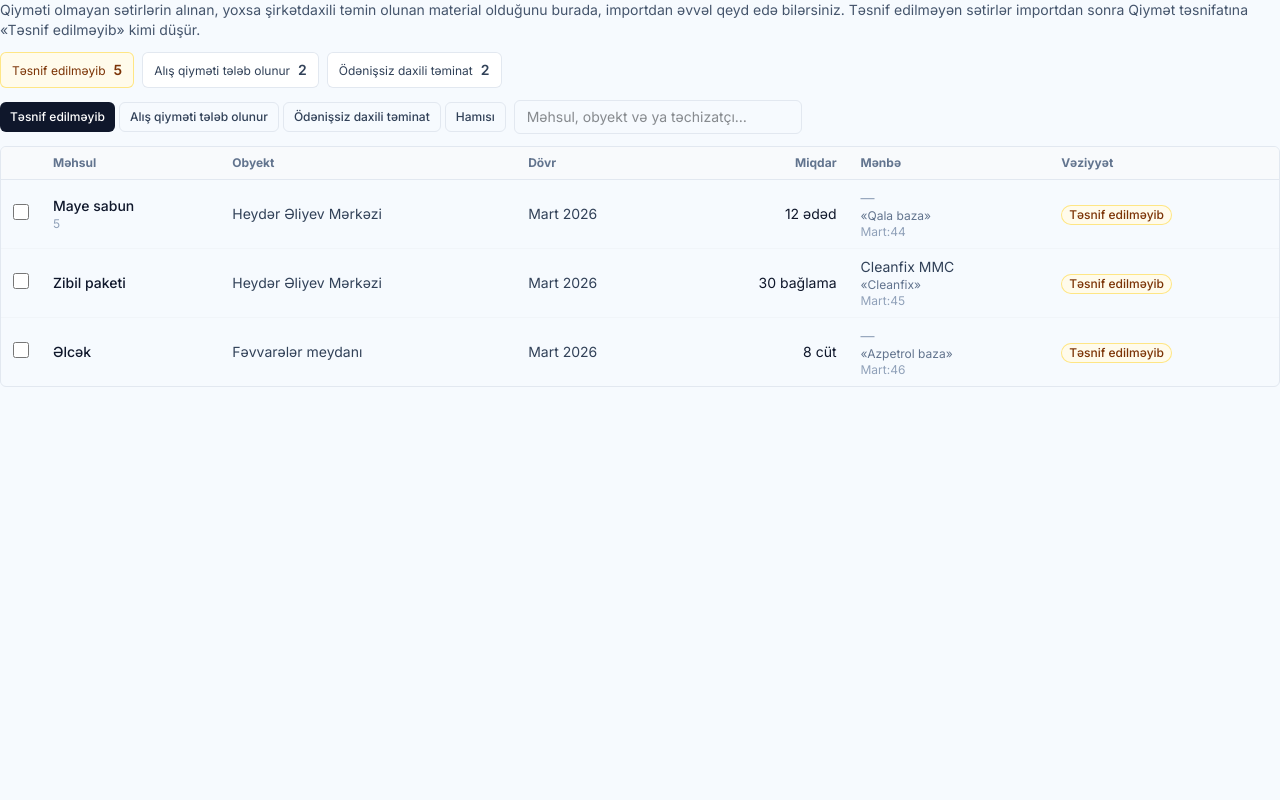
Scenario: classifying › clears a classification with «Təsnifatı geri al»
The width and height of the screenshot is (1280, 800).
Expected: the text "Maye sabun" is shown, top-left (53, 197), bottom-right (134, 214)
Click the checkbox named "Zibil paketi · Heydər Əliyev Mərkəzi · Mart 2026" at (21, 280), box top-left (13, 272), bottom-right (29, 288)
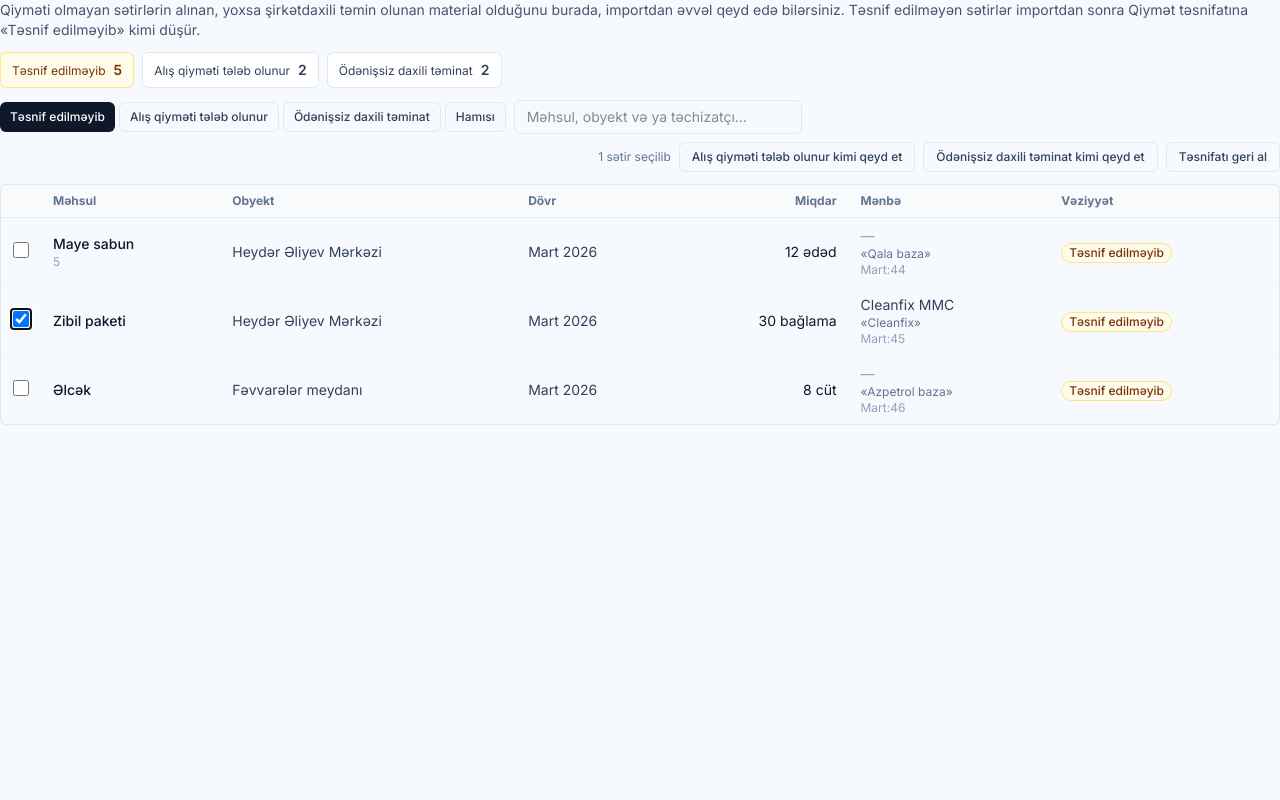
Click the checkbox named "Maye sabun · Heydər Əliyev Mərkəzi · Mart 2026" at (21, 250), box top-left (13, 242), bottom-right (29, 258)
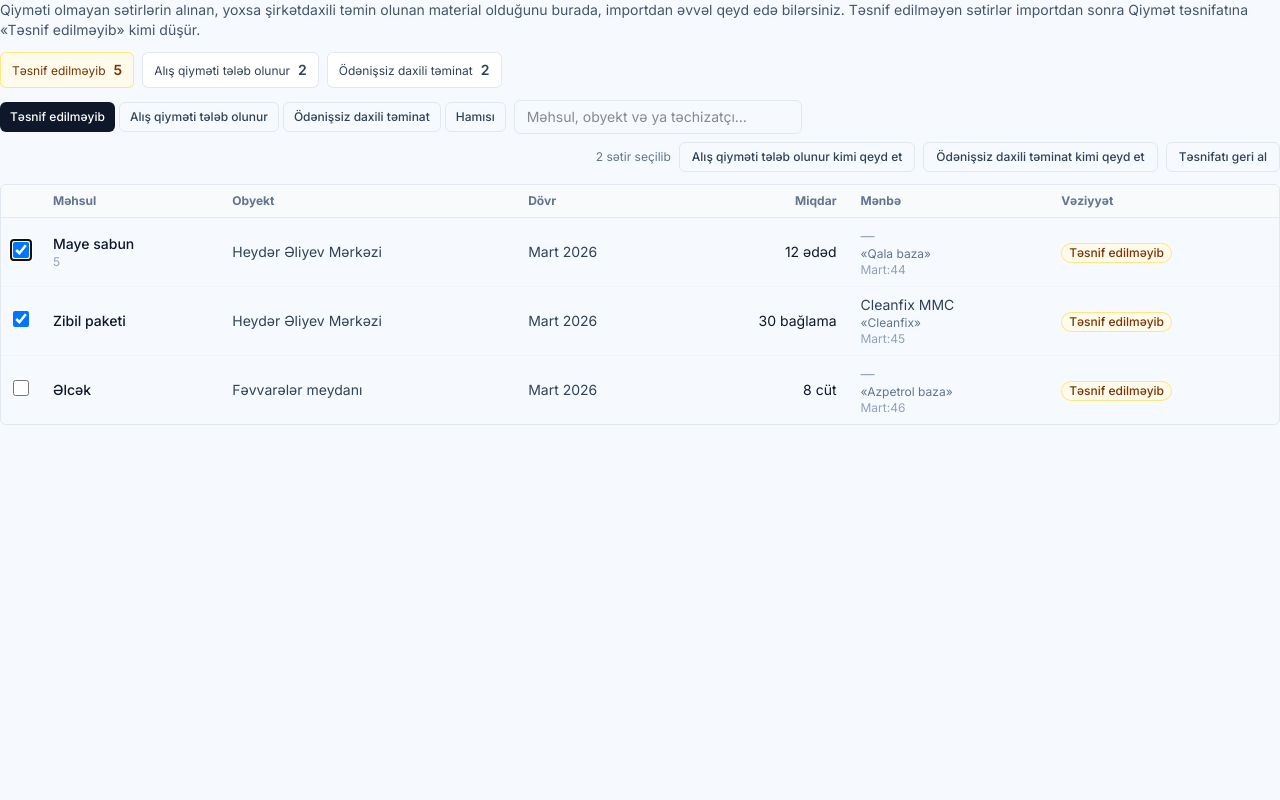
Click the button "Təsnifatı geri al" at (1223, 157), box top-left (1166, 142), bottom-right (1279, 172)
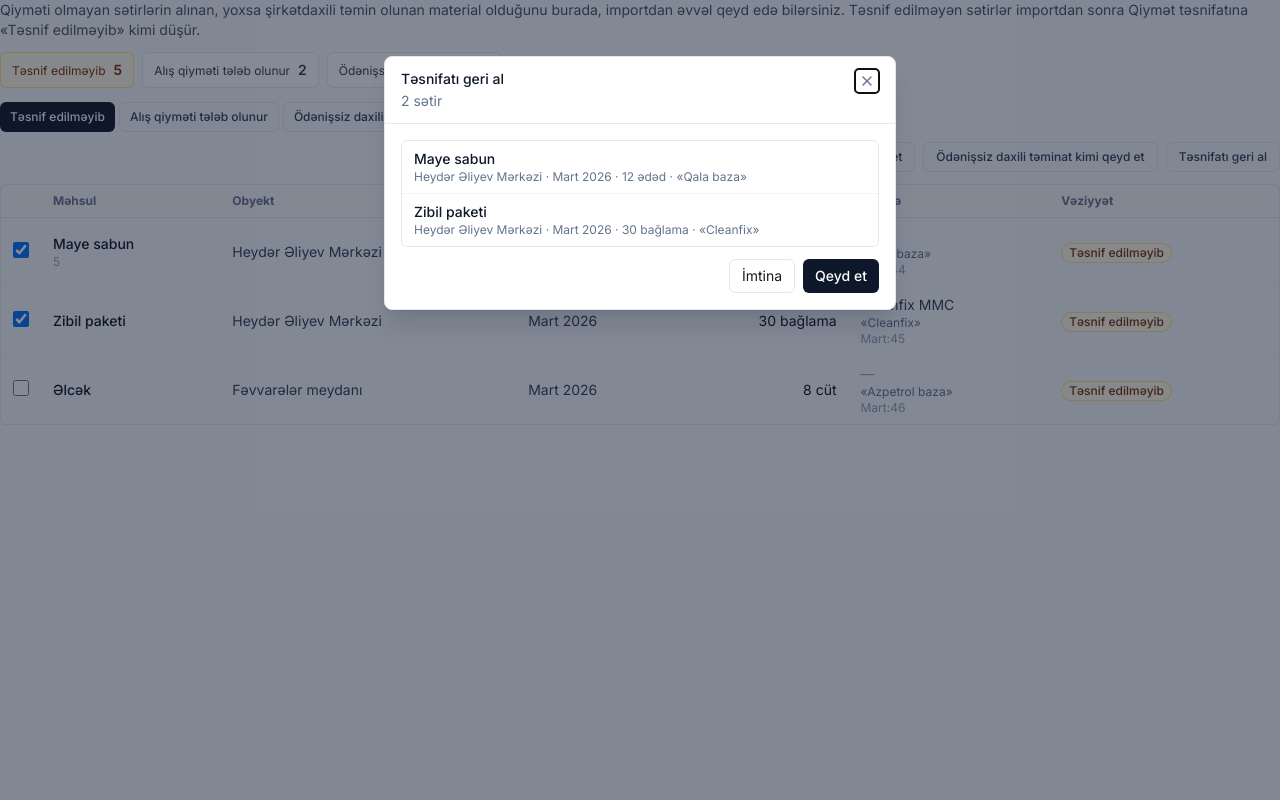
Click the button "Qeyd et" at (841, 276), box top-left (803, 259), bottom-right (879, 293)
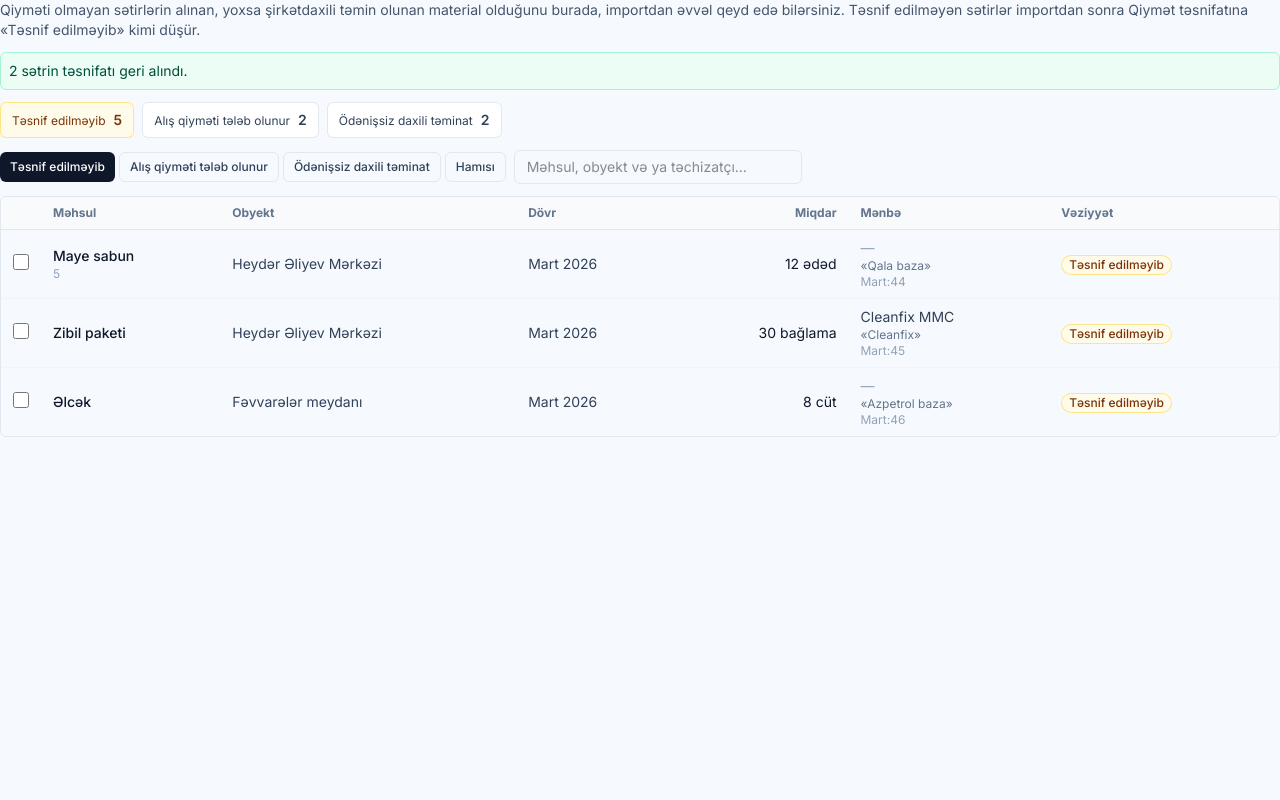
Expected: the text "2 sətrin təsnifatı geri alındı." is shown, top-left (0, 52), bottom-right (1279, 90)
